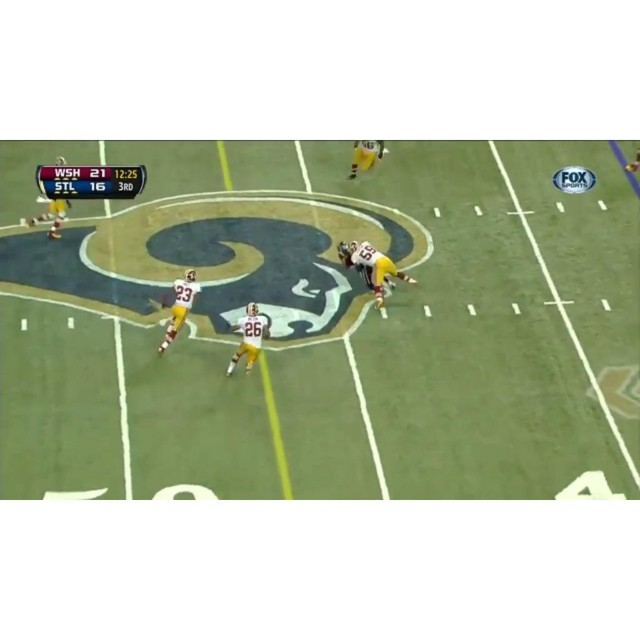american-football-player: (154, 270, 201, 359), (340, 244, 390, 318), (29, 157, 72, 238), (355, 240, 419, 294), (225, 303, 271, 378), (345, 142, 386, 181)
